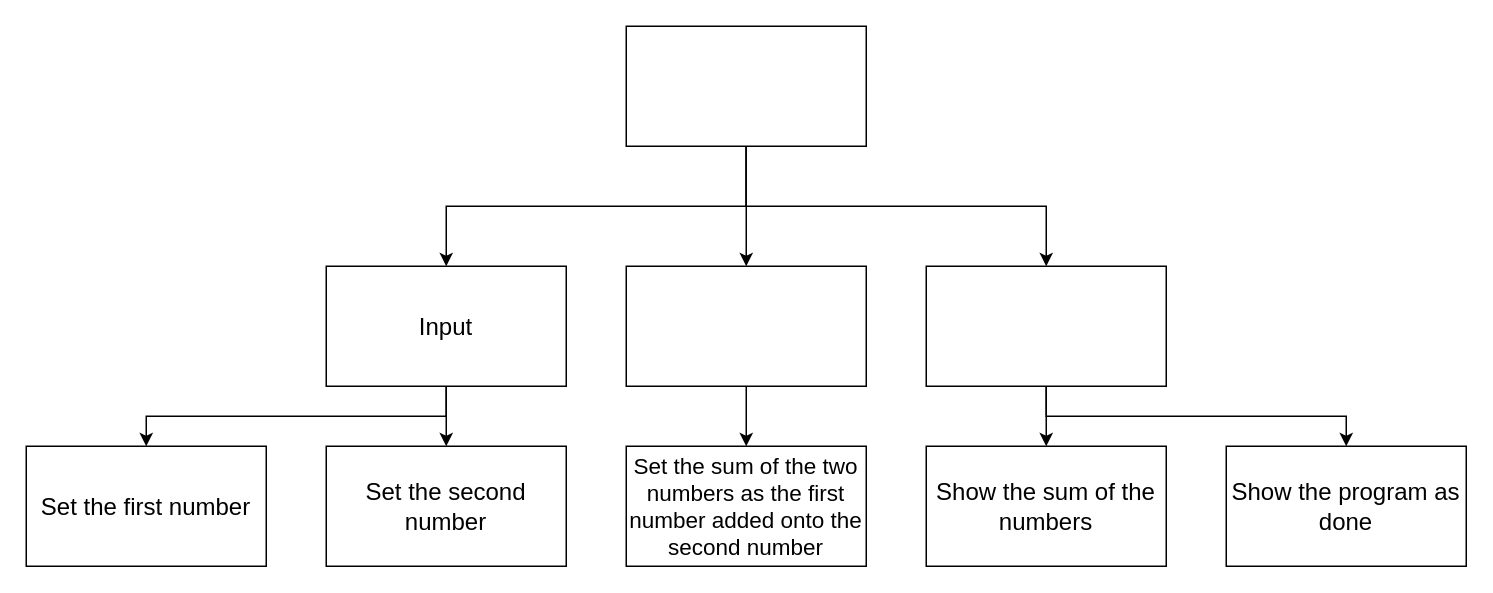
The diagram is 1493 pixels wide and 593 high, and some of its shapes have lost their labels. The centre of each missing label's shape, as x and y in pixels:
"Output" goes at point (1045, 325).
"Process" goes at point (745, 325).
"Sum of Two Numbers" goes at point (745, 85).
